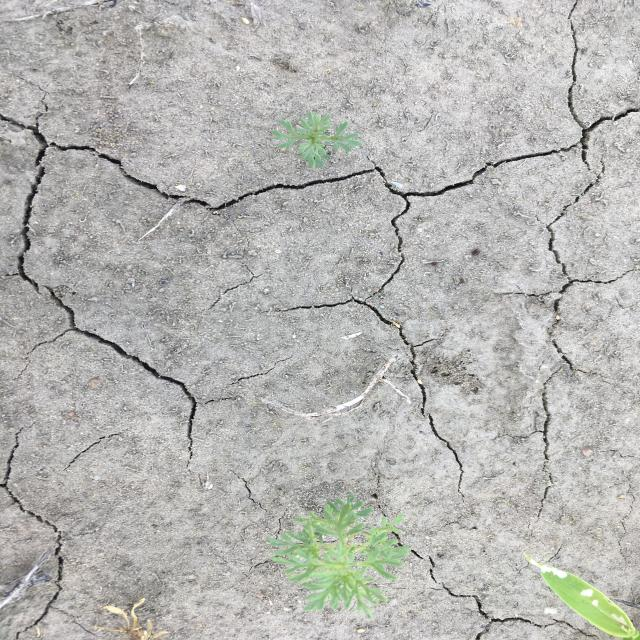Ragweed: (263, 490, 414, 620), (266, 109, 365, 171)
